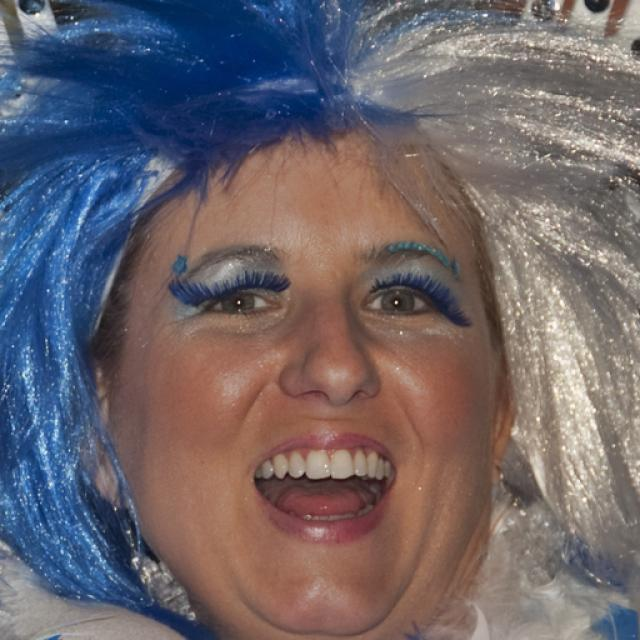happy: (118, 132, 500, 632)
